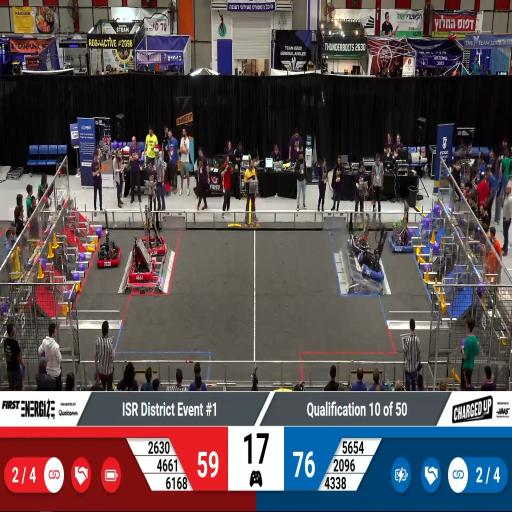robot: (96, 228, 122, 268), (138, 222, 166, 257), (389, 214, 413, 253), (360, 249, 386, 285), (350, 222, 375, 258), (129, 248, 155, 281)
